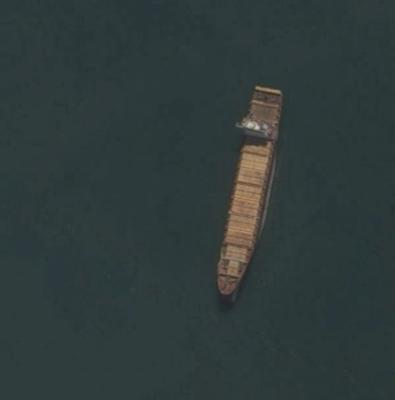Boat: (192, 60, 298, 304)
